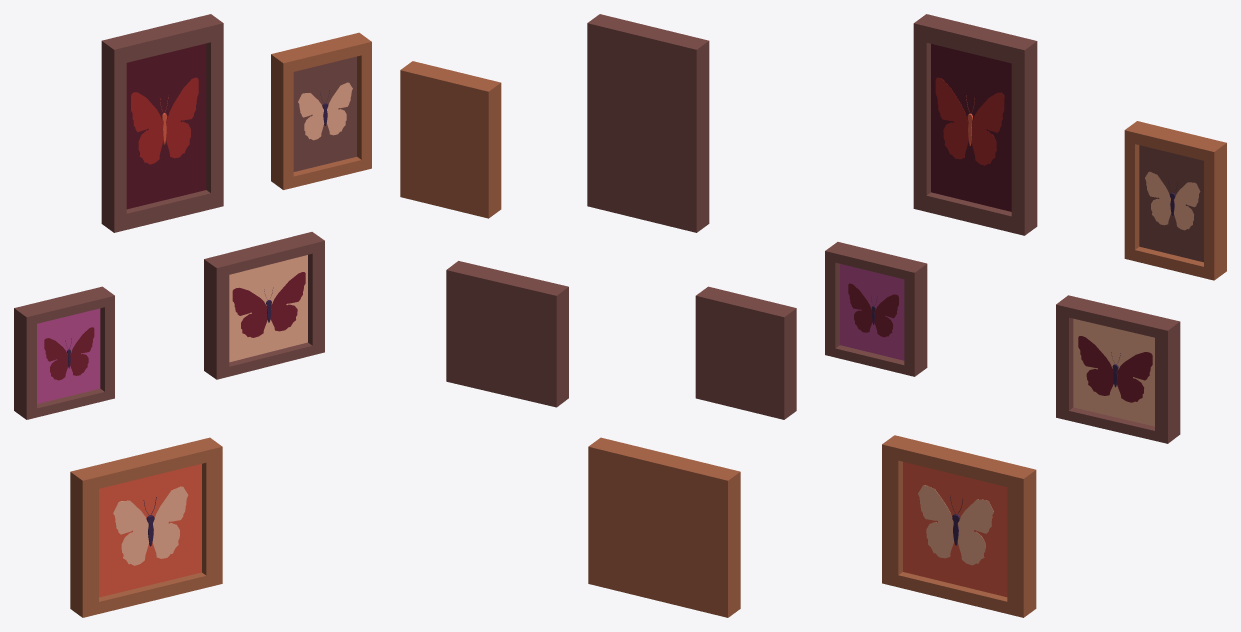
Rendered from quadros de borboletas 1.fbx.
3 renders of one model, left to right at view 1: azimuth 30°, elevation 25°; view 2: azimuth 150°, elevation 25°; view 3: azimuth 330°, elevation 25°, orthographic.
Visible parts, largest first — view 1: Plane.022, Plane.026, Cube.090, Cube.091, Plane.027; view 2: Plane.022, Plane.026, Cube.090, Cube.091, Plane.027; view 3: Plane.022, Plane.026, Cube.090, Cube.091, Plane.027.
Boxes of the visible parts, x1=… form: Plane.022: x1=101, y1=14, x2=223, y2=232; Plane.026: x1=70, y1=437, x2=222, y2=617; Cube.090: x1=204, y1=232, x2=324, y2=379; Cube.091: x1=271, y1=32, x2=371, y2=189; Plane.027: x1=14, y1=286, x2=114, y2=419; Plane.022: x1=587, y1=14, x2=709, y2=232; Plane.026: x1=588, y1=437, x2=740, y2=617; Cube.090: x1=446, y1=261, x2=568, y2=407; Cube.091: x1=400, y1=61, x2=501, y2=218; Plane.027: x1=695, y1=286, x2=796, y2=419; Plane.022: x1=913, y1=14, x2=1037, y2=235; Plane.026: x1=882, y1=435, x2=1036, y2=617; Cube.090: x1=1056, y1=295, x2=1180, y2=443; Cube.091: x1=1124, y1=121, x2=1226, y2=280; Plane.027: x1=825, y1=242, x2=927, y2=376.
Size of the model in its own units: 146 by 215 by 22.59.
